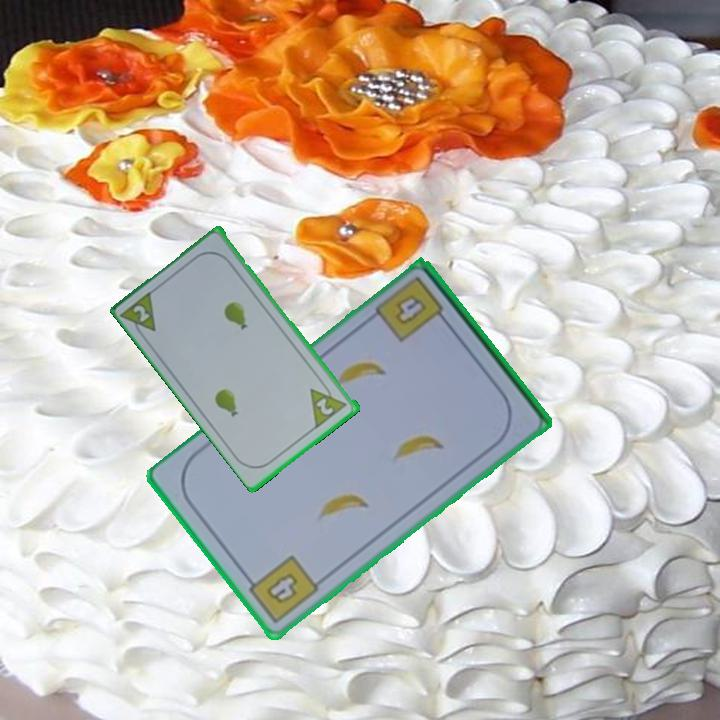2p: (118, 287, 160, 343), (313, 394, 337, 418)
4b: (241, 552, 322, 627), (371, 273, 452, 346)
